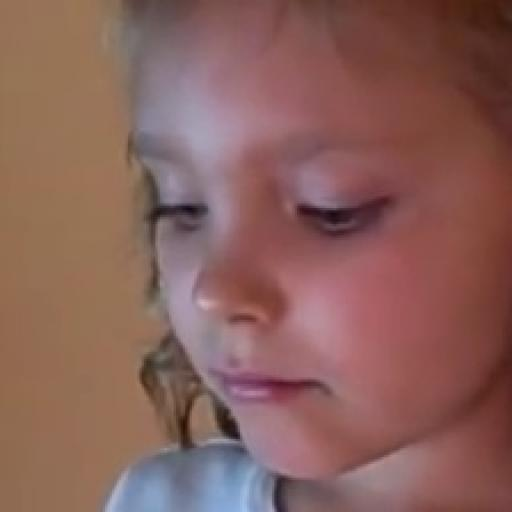Autism: (124, 14, 512, 498)
